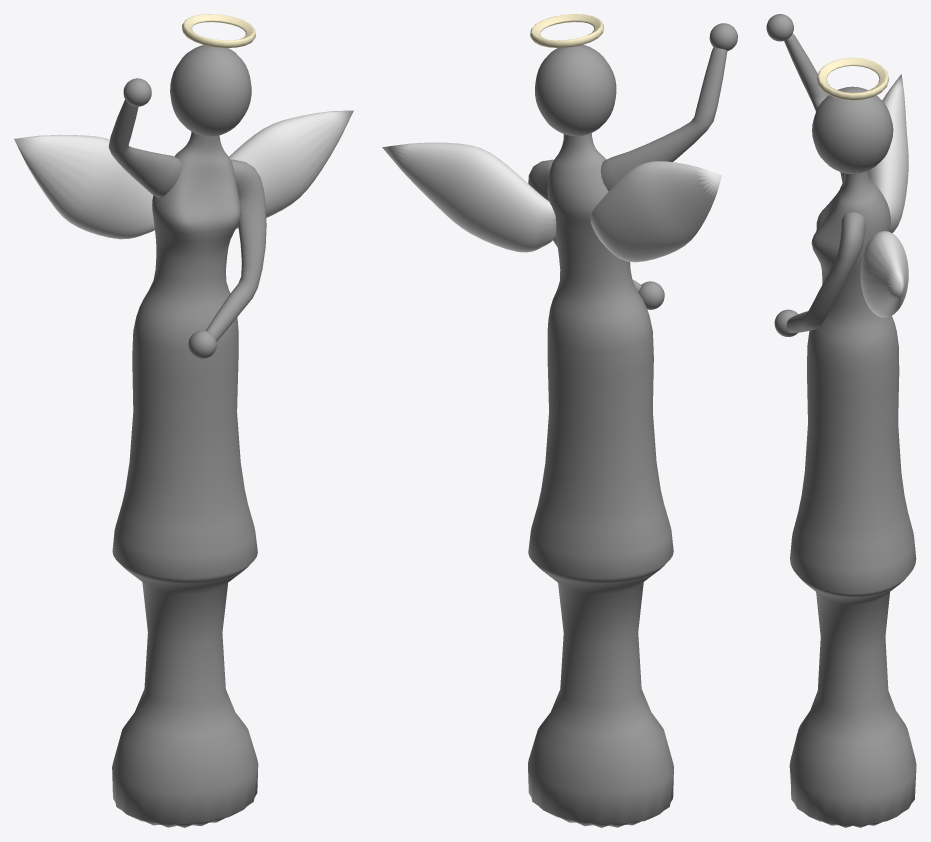
File: Statue (1).fbx
The picture shows the model from 3 angles, left to right: view 1: azimuth 30°, elevation 25°; view 2: azimuth 150°, elevation 25°; view 3: azimuth 270°, elevation 25°; orthographic projection. The views are drawn at different scales.
Parts seen in each view (by area): view 1: Body, Wing_R, Wing_L, Head, Arm_L, Arm_R, Ring, Hand_R, Hand_L; view 2: Body, Wing_L, Wing_R, Head, Arm_R, Ring, Arm_L; view 3: Body, Head, Wing_L, Wing_R, Arm_L, Ring, Arm_R, Hand_R, Hand_L.
Part boxes in pixels (x1,y1,x2,y2): Body: (112, 131, 258, 827); Wing_R: (14, 134, 154, 239); Wing_L: (229, 110, 353, 228); Head: (170, 45, 251, 136); Arm_L: (206, 159, 266, 341); Arm_R: (108, 99, 181, 197); Ring: (182, 14, 255, 47); Hand_R: (123, 78, 151, 106); Hand_L: (188, 330, 216, 358); Body: (528, 133, 673, 827); Wing_L: (382, 142, 556, 252); Wing_R: (590, 161, 721, 262); Head: (535, 45, 616, 136); Arm_R: (600, 47, 727, 191); Ring: (530, 14, 603, 47); Arm_L: (528, 159, 641, 291); Body: (789, 171, 916, 827); Head: (812, 86, 893, 173); Wing_L: (860, 231, 908, 317); Wing_R: (868, 74, 908, 233); Arm_L: (786, 212, 865, 332); Ring: (817, 57, 888, 100); Arm_R: (784, 33, 843, 183); Hand_R: (766, 14, 793, 41); Hand_L: (774, 309, 797, 336).
Bounding box in the file's own units: 2.62 × 5.74 × 1.04.
